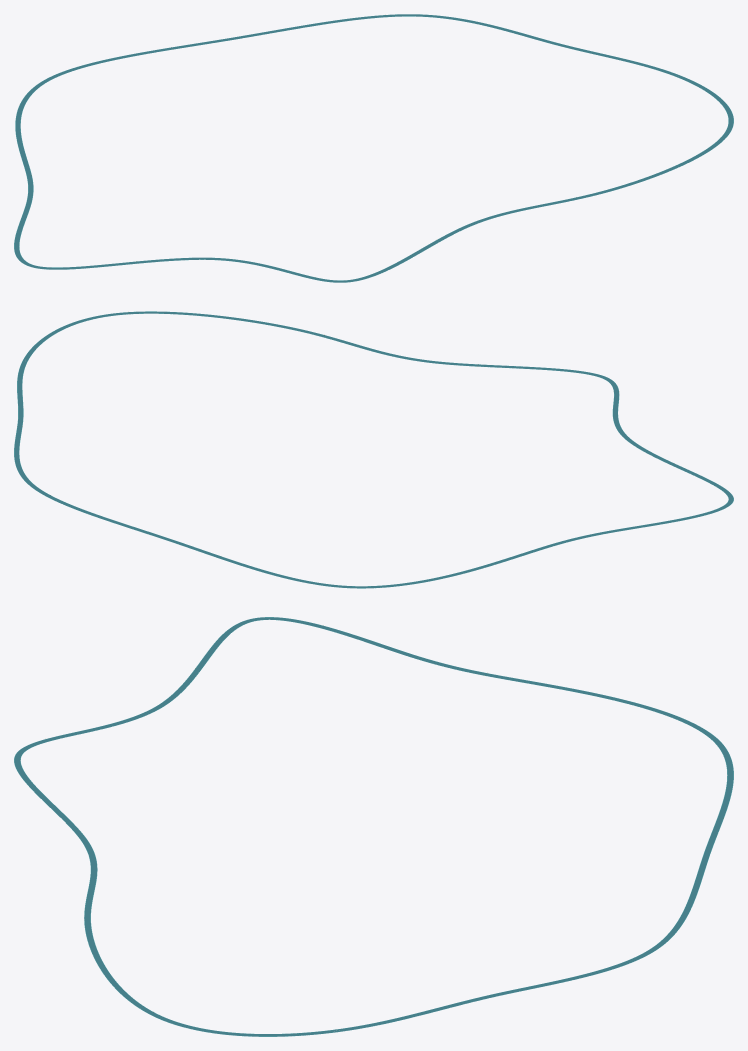
File: Azure_Hover_Challenge.glb
3 renders of one model, top to bottom at view 1: azimuth 30°, elevation 25°; view 2: azimuth 150°, elevation 25°; view 3: azimuth 270°, elevation 25°, orthographic. The views are drawn at different scales.
Parts seen in each view (by area): view 1: road_surface, outer_shoulder, inner_shoulder; view 2: road_surface; view 3: road_surface, inner_shoulder, outer_shoulder.
Part boxes in pixels (x1=…): road_surface: x1=14, y1=14, x2=733, y2=282; outer_shoulder: x1=19, y1=16, x2=728, y2=280; inner_shoulder: x1=14, y1=14, x2=733, y2=282; road_surface: x1=14, y1=311, x2=733, y2=588; road_surface: x1=14, y1=617, x2=733, y2=1036; inner_shoulder: x1=14, y1=617, x2=733, y2=1036; outer_shoulder: x1=20, y1=620, x2=727, y2=1033.
Size of the model in its own units: 10337 by 6.12 by 7491.
